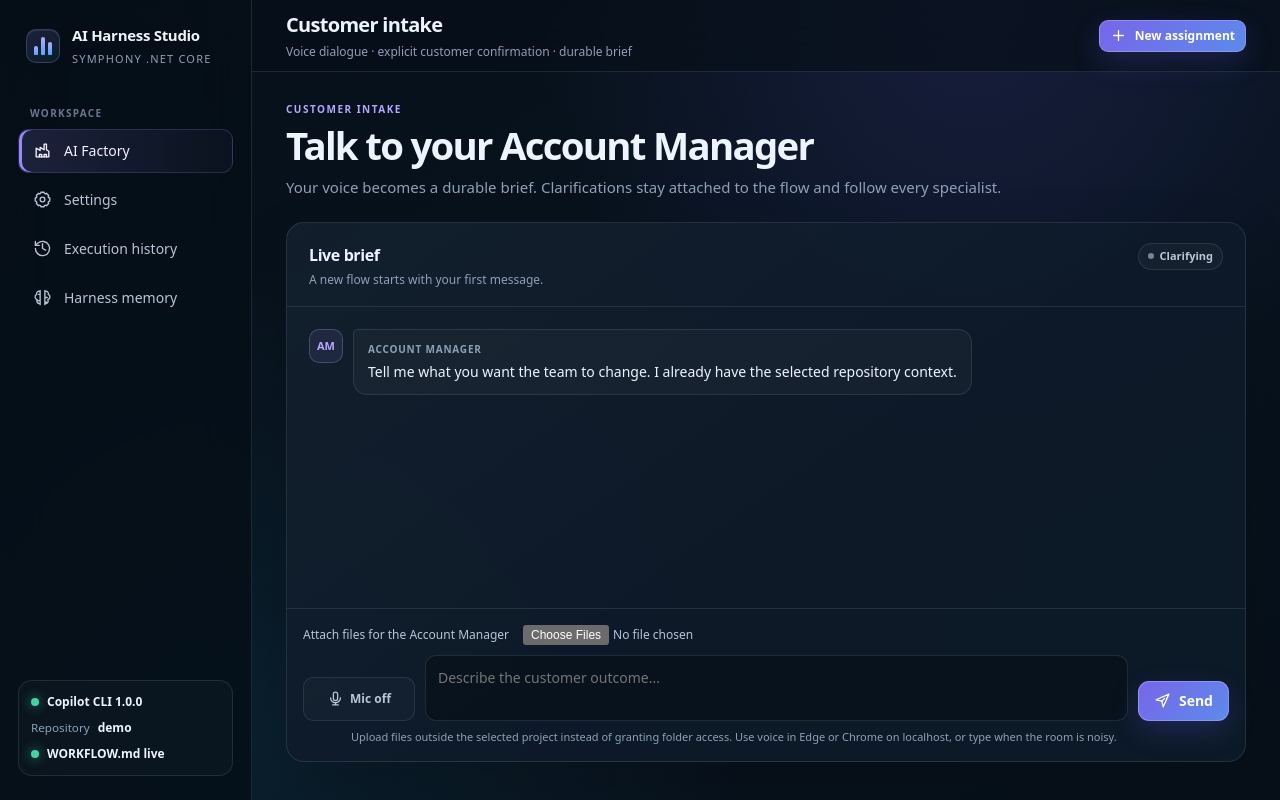
it: IntakePage › shows whether the microphone is off or recording
The image size is (1280, 800).
Click the button with aria-label "Start voice recording" at [359, 699], box [303,677,415,721]
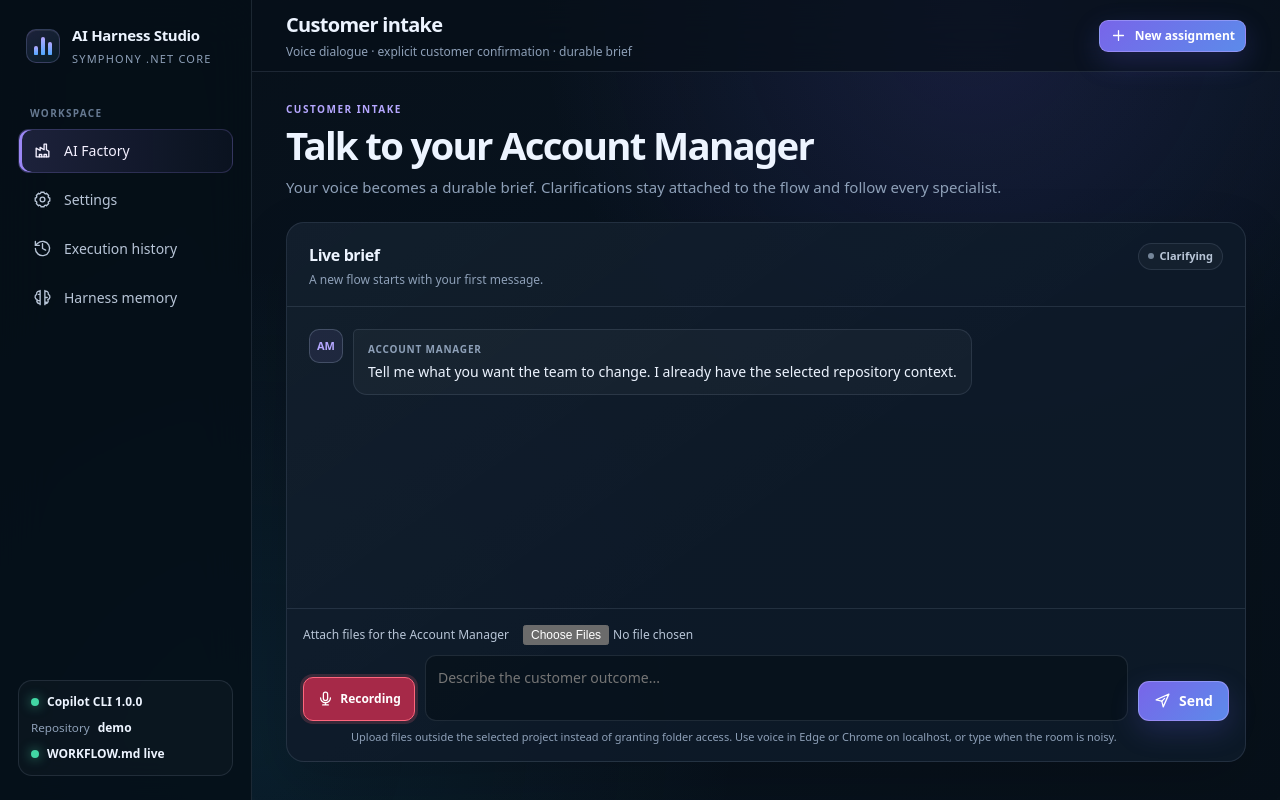
Expected: the button named "Start voice recording" reads "Recording"
Click the button with aria-label "Stop voice recording" at [359, 699], box [303,677,415,721]
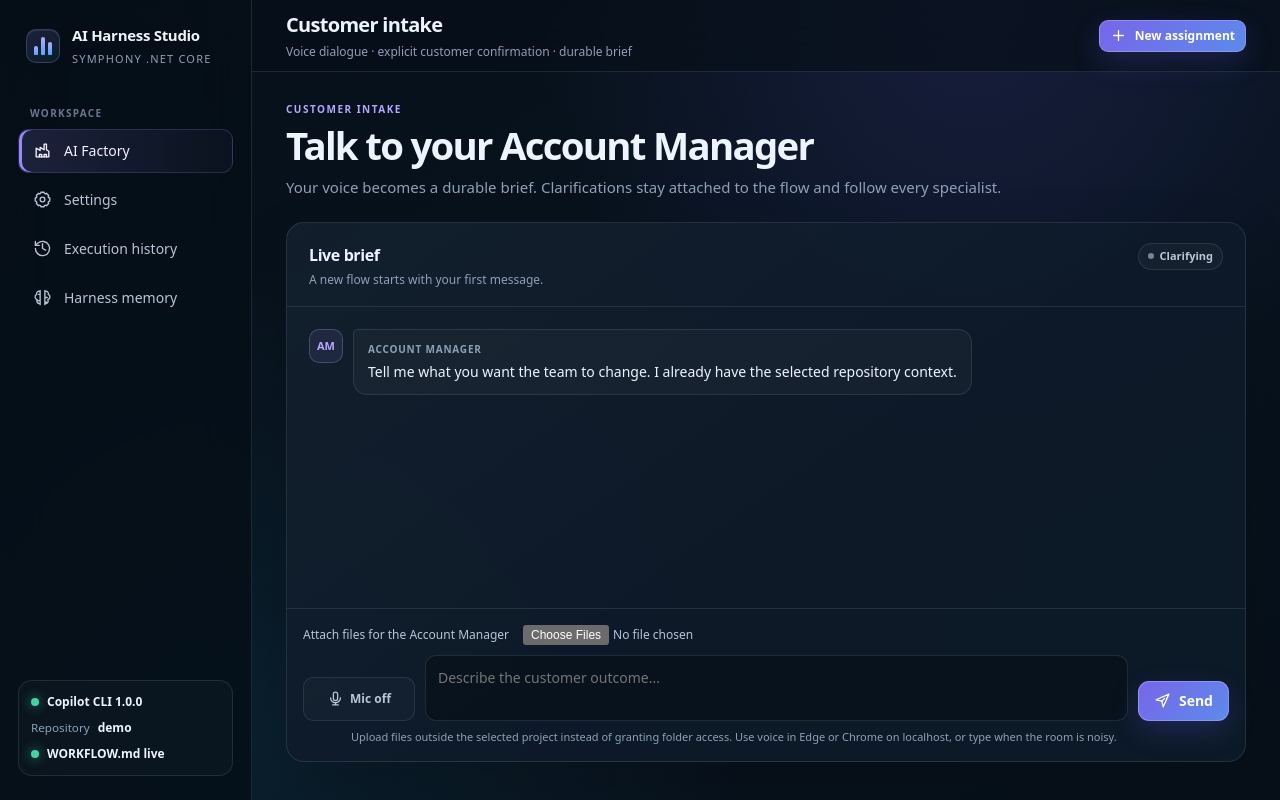
Expected: the button named "Stop voice recording" reads "Mic off", [303,677,415,721]
